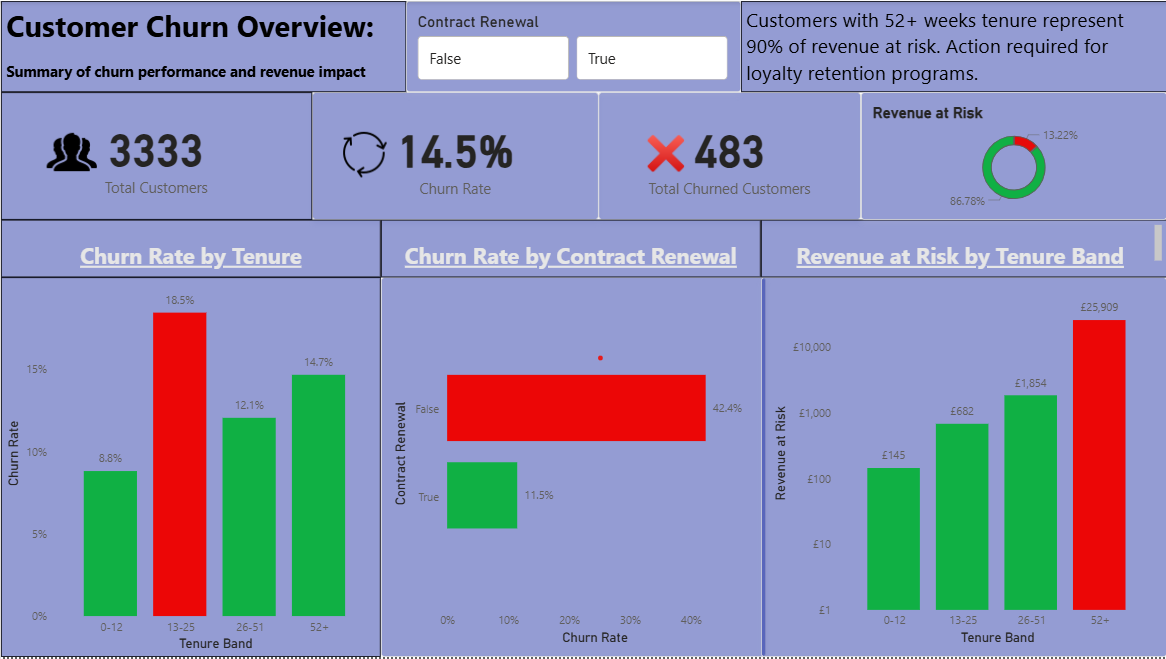

Layout of this report page (visuals, bound fields, positions):
{"tool":"powerbi","page":{"name":"Customer Churn Overview","canvas":[1280,720],"ordinal":0},"visuals":[{"type":"card","fields":{"Values":["churn_cleaned.Churn Rate"]},"box":[374.4,79.4,301,160.2],"z":0},{"type":"card","fields":{"Values":["churn_cleaned.Total Customers"]},"box":[16.5,79.4,357.9,160.2],"z":1000},{"type":"card","fields":{"Values":["churn_cleaned.Total Churned Customers"]},"box":[675.3,79.4,299.5,160.2],"z":2000},{"type":"card","fields":{"Values":["churn_cleaned.Revenue at Risk"]},"box":[974.8,79.4,305.5,160.2],"z":3000},{"type":"textbox","box":[0,0,1280,96],"z":4000},{"type":"clusteredColumnChart","fields":{"Y":["churn_cleaned.Churn Rate"],"Category":["churn_cleaned.tenure_band"]},"box":[0,239.3,417.8,480.7],"z":5000},{"type":"clusteredBarChart","fields":{"Y":["churn_cleaned.Churn Rate"],"Category":["churn_cleaned.ContractRenewal"]},"box":[417.8,239.3,422.3,480.7],"z":6000},{"type":"clusteredColumnChart","fields":{"Y":["churn_cleaned.Revenue at Risk"],"Category":["churn_cleaned.tenure_band"]},"box":[840.1,239.6,440.2,480.7],"z":7000}]}

Visuals, with their boxes in screenshot pixels (x1, y1, x2, y2), scaled from the page's 1280x720 canvas onto the 1166x659 screenshot:
card - churn_cleaned.Churn Rate: BBox(341, 73, 615, 219)
card - churn_cleaned.Total Customers: BBox(15, 73, 341, 219)
card - churn_cleaned.Total Churned Customers: BBox(615, 73, 888, 219)
card - churn_cleaned.Revenue at Risk: BBox(888, 73, 1165, 219)
textbox: BBox(0, 0, 1165, 88)
clusteredColumnChart - churn_cleaned.Churn Rate x churn_cleaned.tenure_band: BBox(0, 219, 381, 658)
clusteredBarChart - churn_cleaned.Churn Rate x churn_cleaned.ContractRenewal: BBox(381, 219, 765, 658)
clusteredColumnChart - churn_cleaned.Revenue at Risk x churn_cleaned.tenure_band: BBox(765, 219, 1165, 658)
